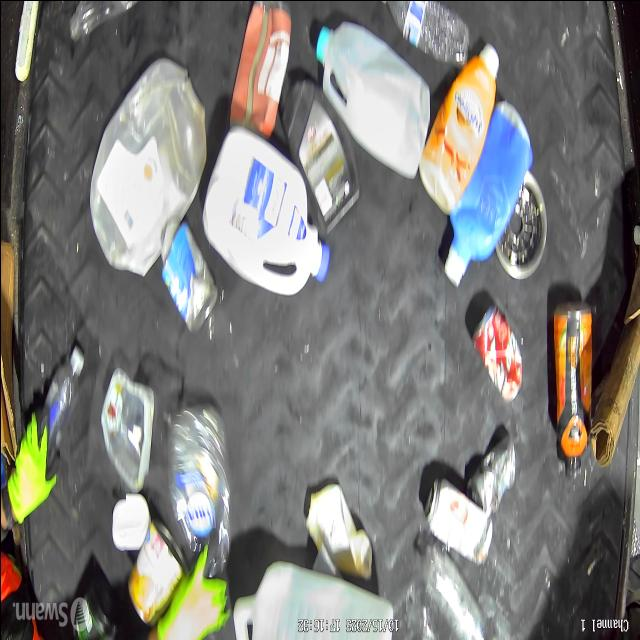can: (164, 224, 218, 338), (420, 476, 488, 562), (130, 523, 182, 621), (472, 307, 526, 401), (466, 440, 518, 514)
milk_jug: (89, 52, 208, 272), (204, 125, 328, 293), (312, 12, 429, 182), (231, 556, 395, 640)
non_white_jug: (437, 99, 525, 282), (424, 45, 502, 212)
plastic_bottle: (376, 0, 472, 67), (42, 336, 82, 461)
